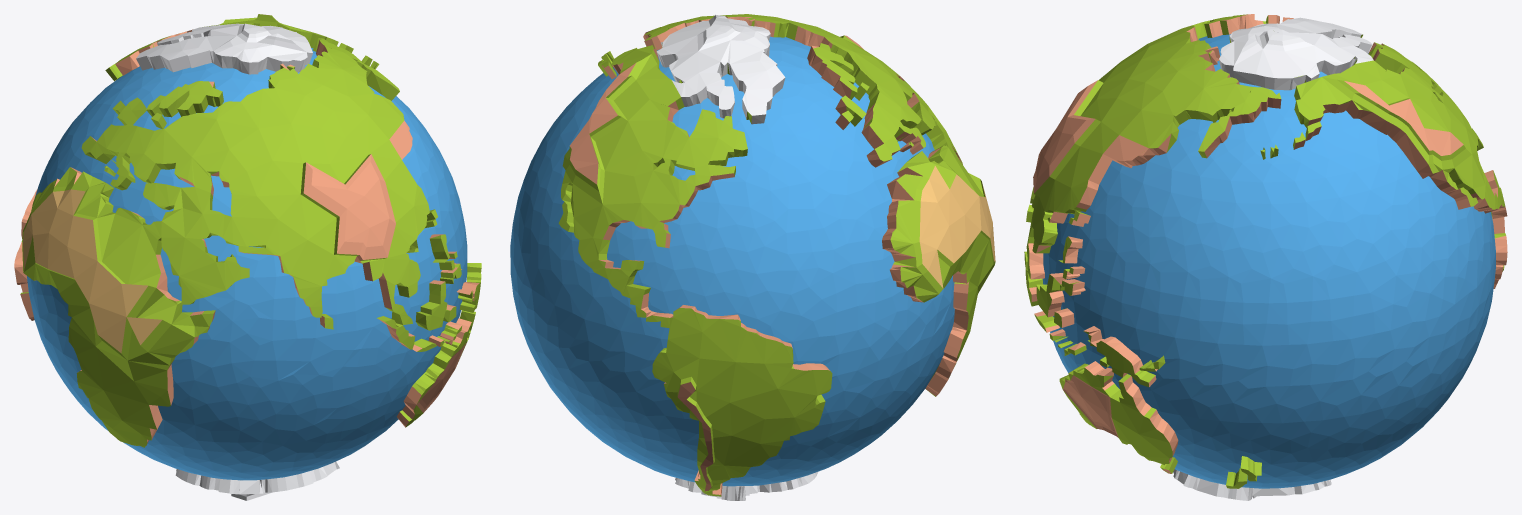
The model's file is Sketchfab_Scene.gltf.
The picture shows the model from 3 angles, left to right: view 1: azimuth 30°, elevation 25°; view 2: azimuth 150°, elevation 25°; view 3: azimuth 270°, elevation 25°; orthographic projection. The views are drawn at different scales.
Parts seen in each view (by area): view 1: Object_Planet_0; view 2: Object_Planet_0; view 3: Object_Planet_0.
Part boxes in pixels (left/top/right/bottom): Object_Planet_0: left=14, top=14, right=481, bottom=500; Object_Planet_0: left=510, top=14, right=995, bottom=500; Object_Planet_0: left=1024, top=14, right=1507, bottom=500.
Size of the model in its own units: 2.09 by 2.23 by 2.09.
Materials: 1 (1 with a texture image).
